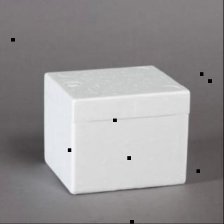foam_box: (37, 60, 196, 198)
